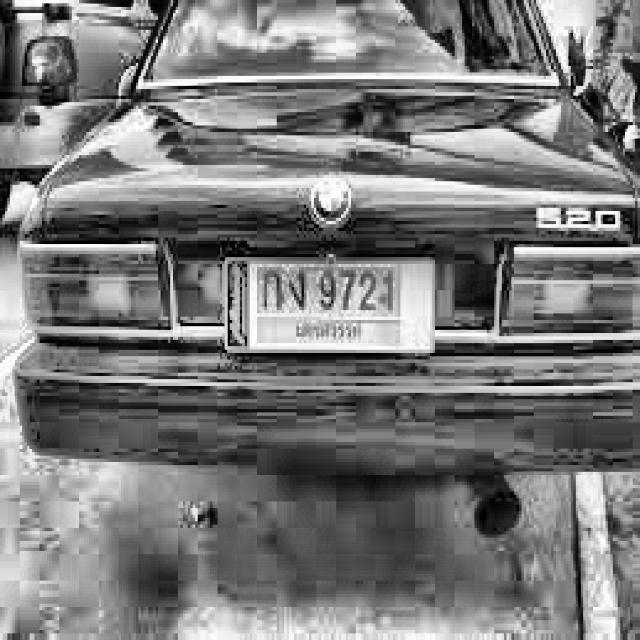license-plate: (225, 258, 440, 354)
